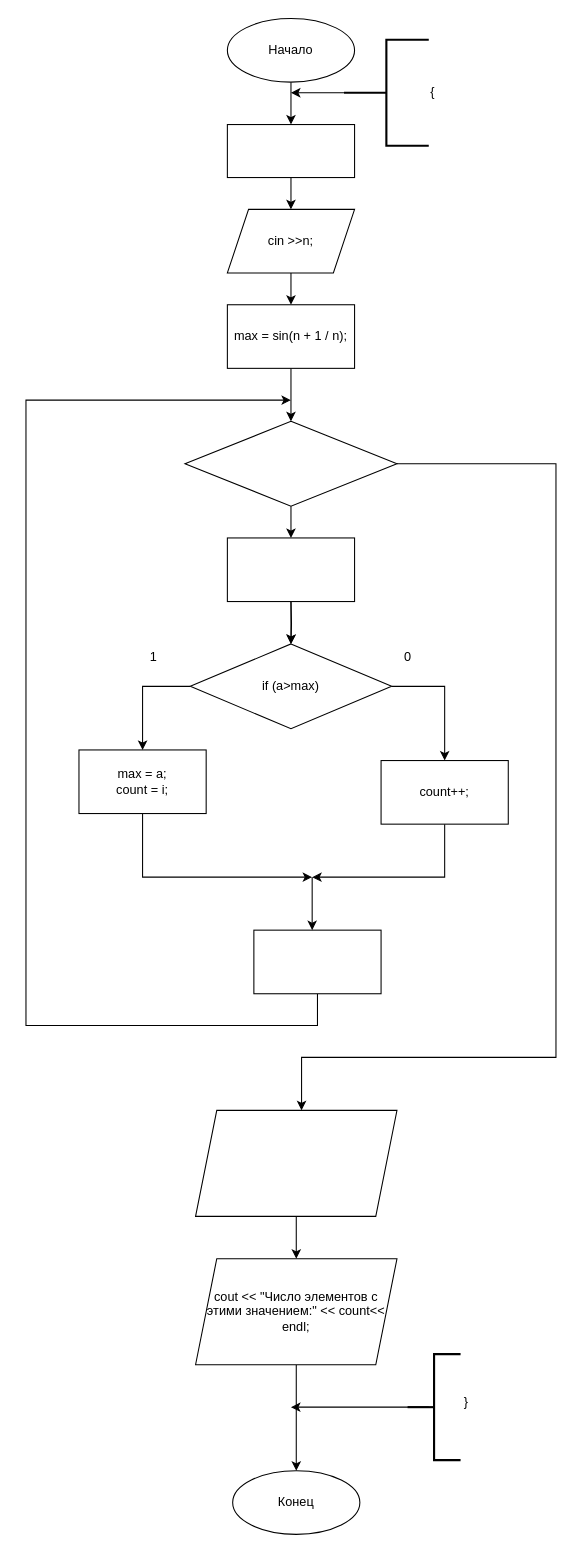
Some shapes in this 583 by 1553 pixel diagram are drawn without their labels. The centre of each missing label's shape, as x and y in pixels:
a = sin(n + i / n);: point (290, 569)
cout << "Максимальный элемент:" <<max<< endl;: point (296, 1162)
float n, a, max; int i=2; int count= 1;: point (290, 150)
i++:: point (317, 961)
while (i<=n): point (290, 463)
